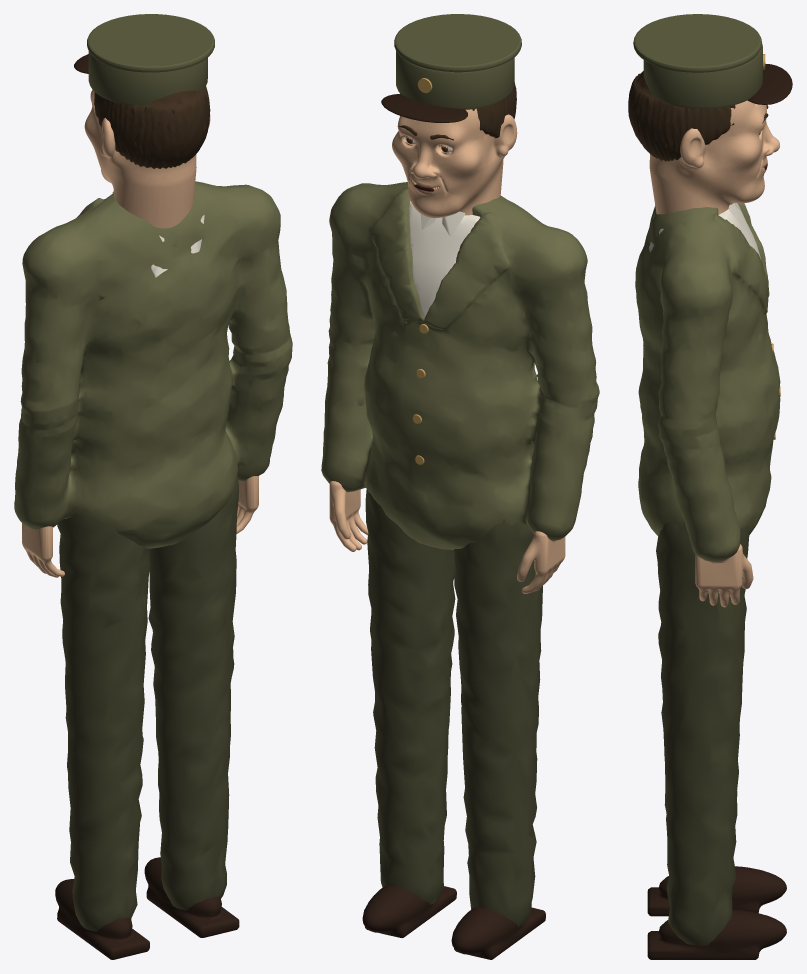
File: corporal.fbx
3 renders of one model, left to right at view 1: azimuth 30°, elevation 25°; view 2: azimuth 150°, elevation 25°; view 3: azimuth 270°, elevation 25°, orthographic.
Parts seen in each view (by area): view 1: Body, Head, Hat, HandR, HandL; view 2: Body, Hat, Head, HandL, HandR; view 3: Body, Head, Hat, HandL.
Boxes of the visible parts, box(x1,y1,x2,y2) form: Body: box(14, 181, 292, 959); Head: box(84, 86, 210, 228); Hat: box(74, 14, 214, 105); HandR: box(22, 523, 64, 577); HandL: box(236, 476, 258, 533); Body: box(321, 182, 599, 959); Hat: box(381, 14, 521, 122); Head: box(392, 82, 517, 218); HandL: box(329, 481, 368, 551); HandR: box(517, 531, 565, 593); Body: box(635, 203, 786, 959); Head: box(628, 71, 779, 214); Hat: box(633, 14, 792, 108); HandL: box(695, 544, 753, 607).
Bounding box in the file's own units: 0.5493 × 1.76 × 0.2949.
